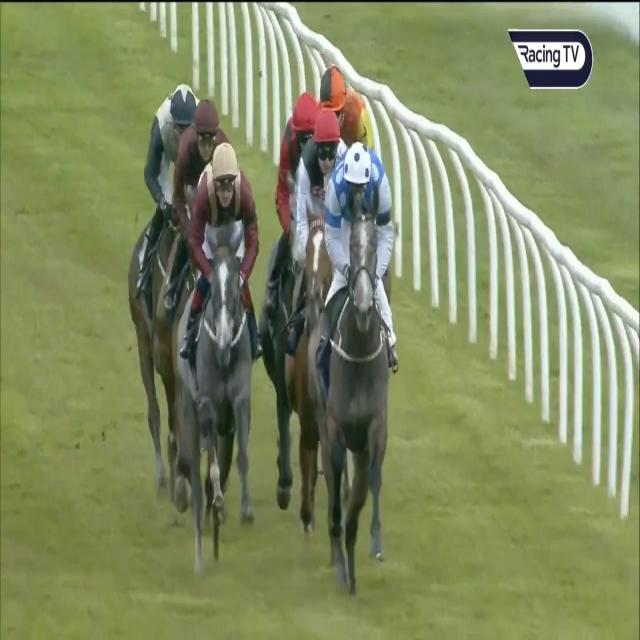horses-racing: (173, 138, 282, 571), (324, 147, 402, 588), (123, 78, 190, 484), (290, 116, 342, 536), (161, 92, 239, 276), (265, 94, 336, 228), (312, 48, 388, 146)
